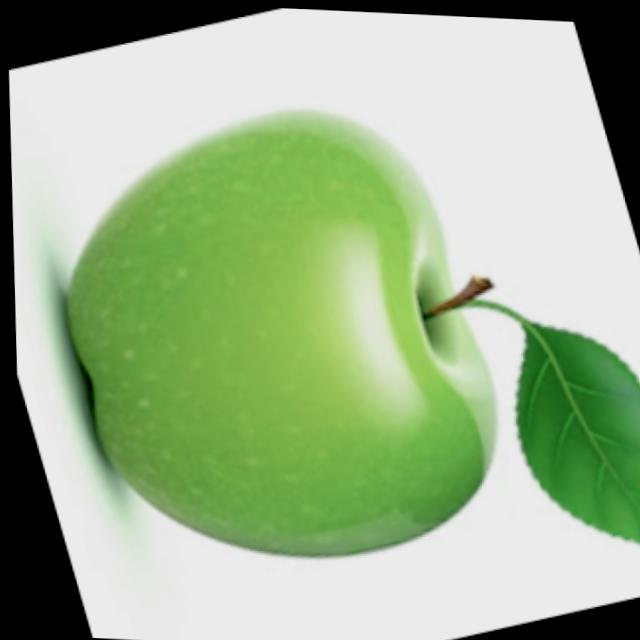organik: (25, 84, 519, 595)
